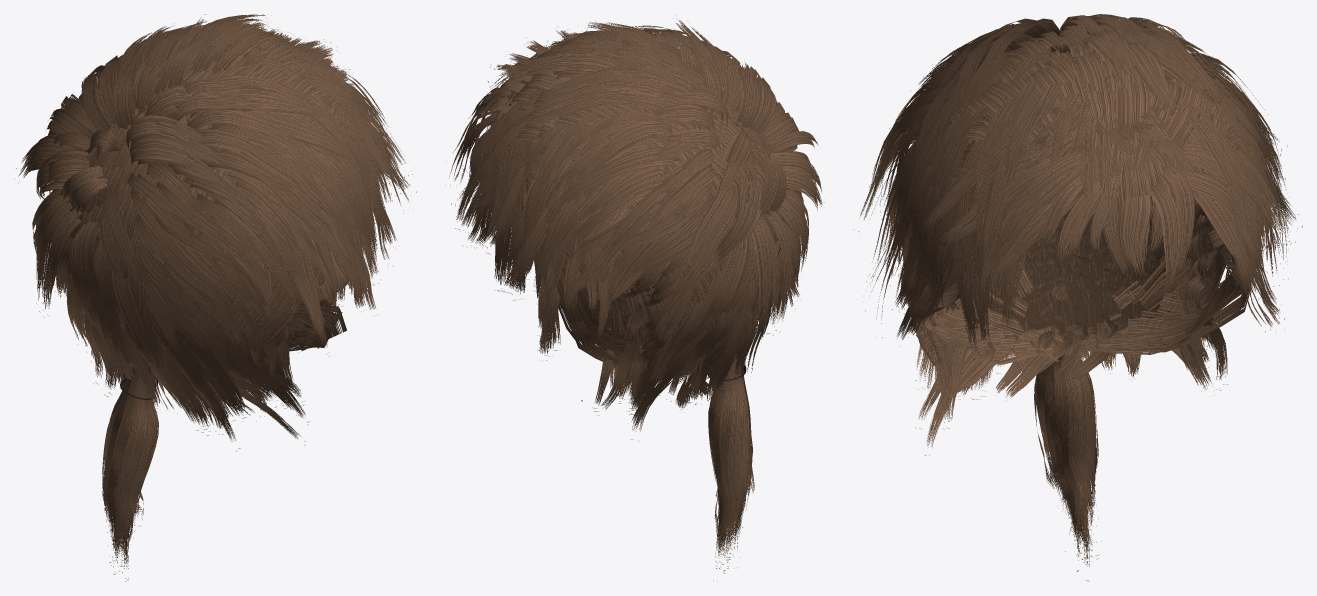
Rendered from hair-male.glb.
3 views of the same model, side by side, from view 1: azimuth 30°, elevation 25°; view 2: azimuth 150°, elevation 25°; view 3: azimuth 270°, elevation 25° (orthographic). The views are drawn at different scales.
Parts seen in each view (by area): view 1: Hair_medium_cards, Hair_slick_cards, Hair_ponytail_tail, Hair_ponytail_cards, Hair_crop_cards; view 2: Hair_medium_cards, Hair_slick_cards, Hair_ponytail_cards, Hair_ponytail_tail, Hair_crop_cards; view 3: Hair_medium_cards, Hair_slick_cards, Hair_ponytail_cards, Hair_ponytail_tail, Hair_crop_cards, Hair_crop_fade, Hair_slick_cap, Hair_medium_cap, Hair_ponytail_cap.
Part boxes in pixels (x1=…): Hair_medium_cards: x1=14, y1=14, x2=416, y2=451; Hair_slick_cards: x1=59, y1=30, x2=352, y2=379; Hair_ponytail_tail: x1=102, y1=366, x2=158, y2=581; Hair_ponytail_cards: x1=70, y1=80, x2=346, y2=381; Hair_crop_cards: x1=198, y1=26, x2=359, y2=193; Hair_medium_cards: x1=445, y1=14, x2=824, y2=441; Hair_slick_cards: x1=508, y1=30, x2=792, y2=374; Hair_ponytail_cards: x1=520, y1=99, x2=779, y2=377; Hair_ponytail_tail: x1=708, y1=353, x2=754, y2=573; Hair_crop_cards: x1=485, y1=26, x2=737, y2=173; Hair_medium_cards: x1=853, y1=14, x2=1302, y2=455; Hair_slick_cards: x1=937, y1=33, x2=1242, y2=368; Hair_ponytail_cards: x1=902, y1=109, x2=1259, y2=374; Hair_ponytail_tail: x1=1034, y1=353, x2=1101, y2=581; Hair_crop_cards: x1=937, y1=43, x2=1229, y2=192; Hair_crop_fade: x1=954, y1=188, x2=1225, y2=346; Hair_slick_cap: x1=952, y1=201, x2=1233, y2=334; Hair_medium_cap: x1=950, y1=193, x2=1234, y2=333; Hair_ponytail_cap: x1=952, y1=211, x2=1179, y2=330.
Size of the model in its own units: 0.2553 by 0.394 by 0.2624.
7 materials, 5 textured.
